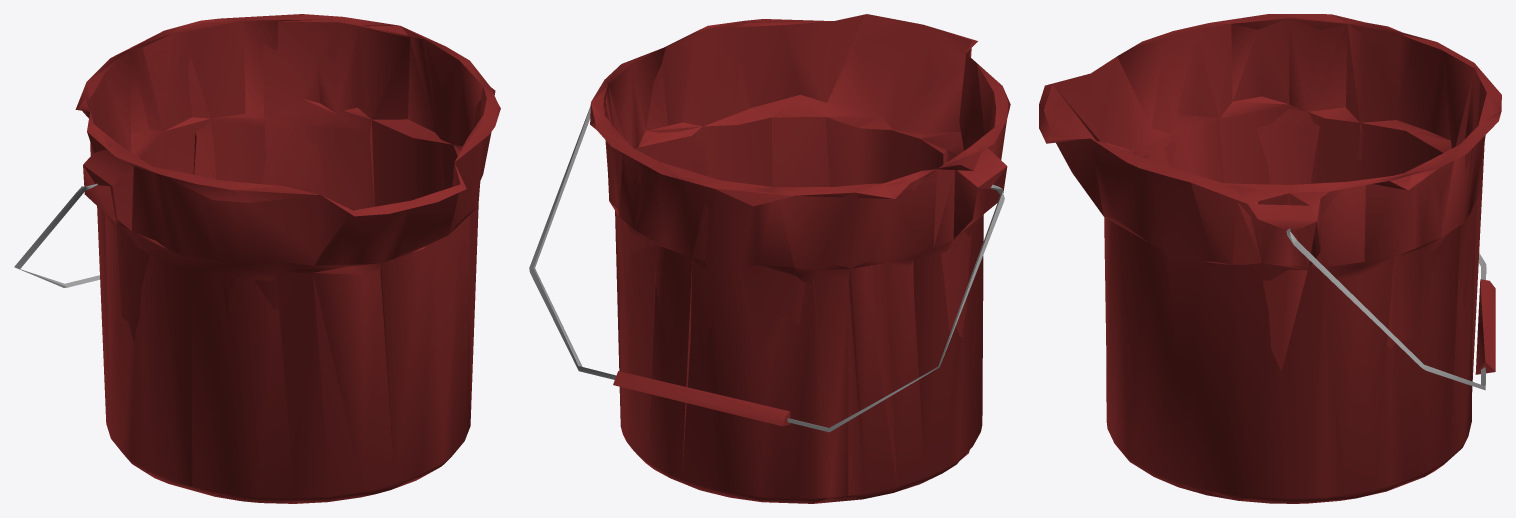
Rendered from simready-bucket-red.lite.8e0f0d34.glb.
3 renders of one model, left to right at view 1: azimuth 30°, elevation 25°; view 2: azimuth 150°, elevation 25°; view 3: azimuth 270°, elevation 25°, orthographic.
Visible parts, largest first — view 1: model; view 2: model; view 3: model.
Part boxes in pixels (<box>): model: <box>14,14,500,503</box>; model: <box>529,14,1010,503</box>; model: <box>1039,14,1501,503</box>.
Size of the model in its own units: 0.3377 by 0.2584 by 0.3254.
Materials: 2 (1 with a texture image).
